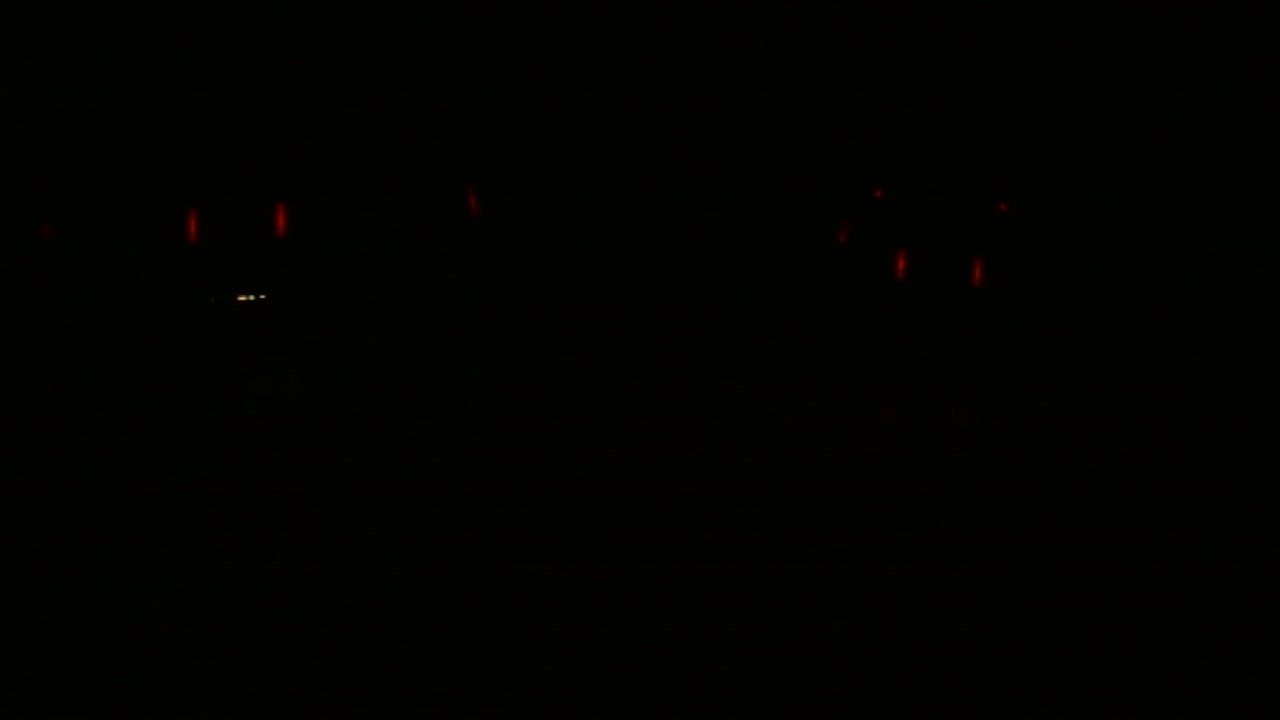pair1: (176, 189, 300, 255)
pair2: (880, 239, 998, 303)
